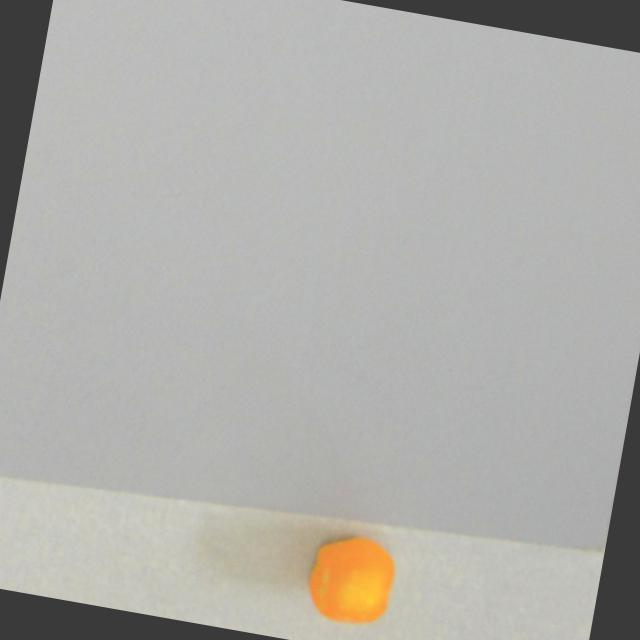no_canjicado: (300, 527, 401, 630)
